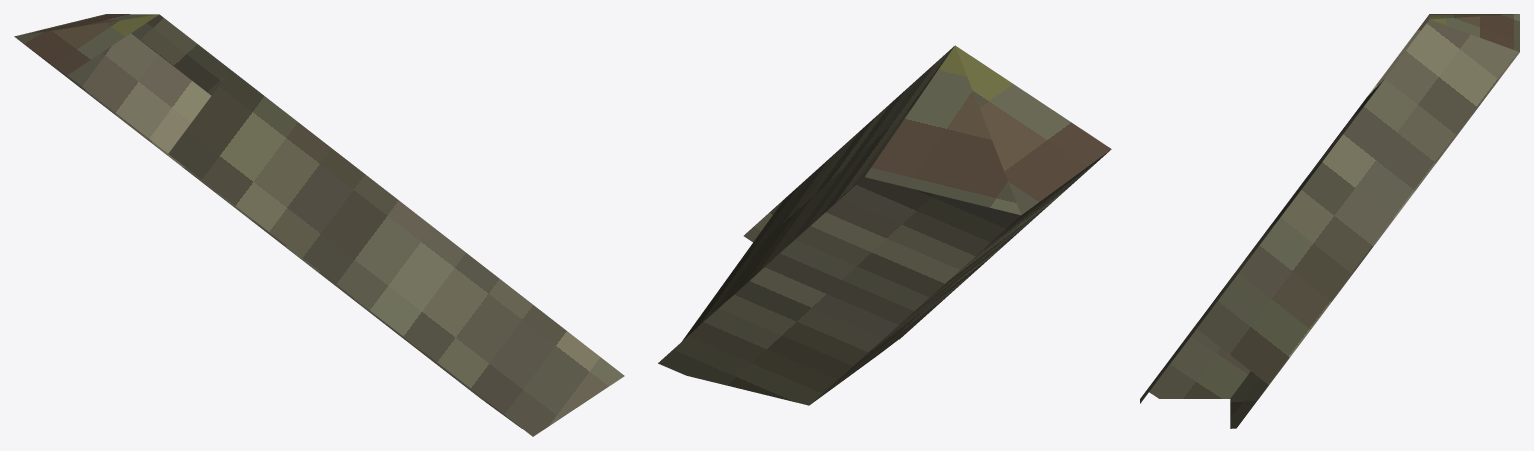
The model's file is larch_thin_branch_45_diagonal.obj.
3 renders of one model, left to right at view 1: azimuth 30°, elevation 25°; view 2: azimuth 150°, elevation 25°; view 3: azimuth 270°, elevation 25°, orthographic. The views are drawn at different scales.
Parts seen in each view (by area): view 1: cube_selection; view 2: cube_selection; view 3: cube_selection.
Part boxes in pixels (<box>): cube_selection: <box>14,14,624,436</box>; cube_selection: <box>658,45,1111,405</box>; cube_selection: <box>1140,14,1519,428</box>.
Bounding box in the file's own units: 1.31 × 1.12 × 1.31.
